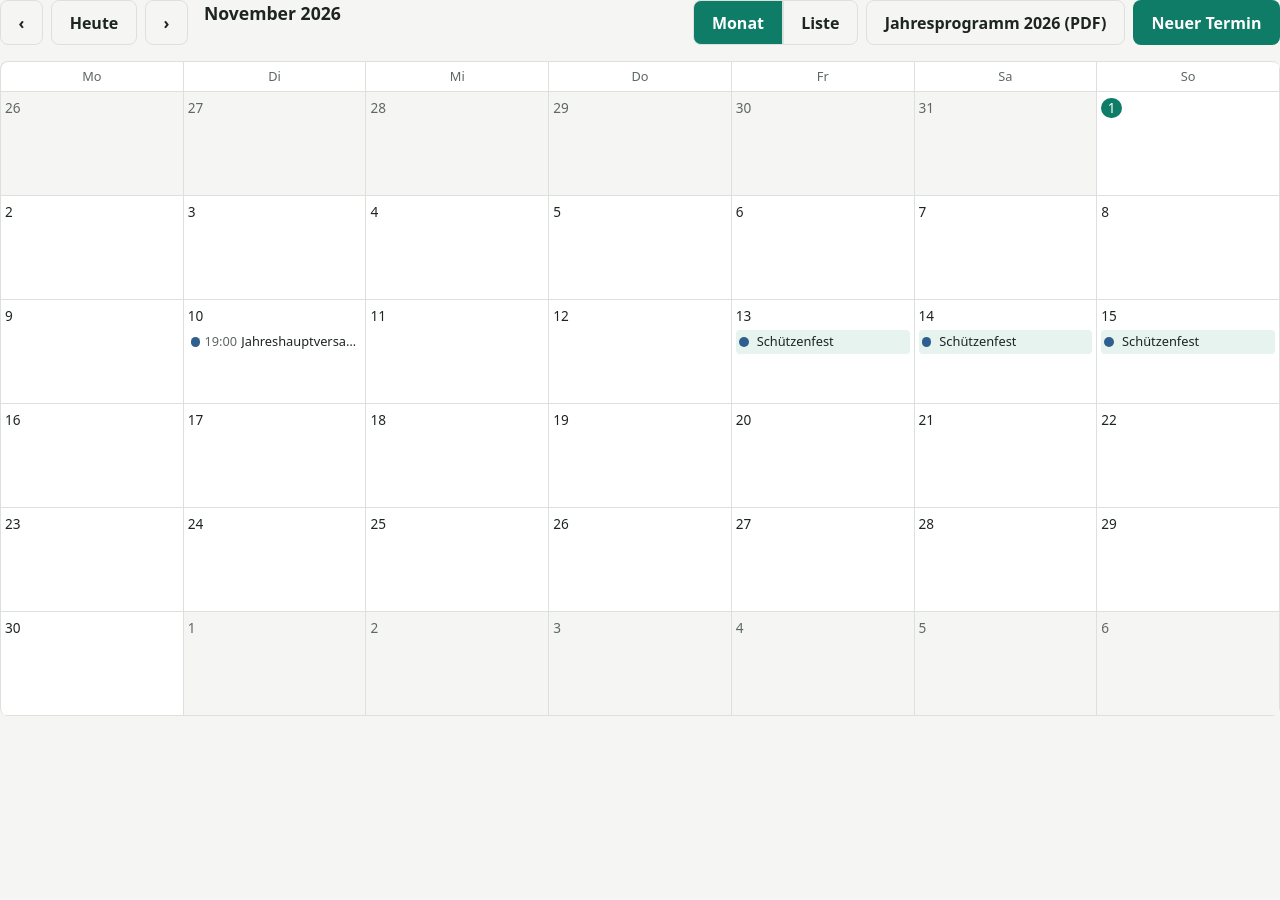
it: Kalender › zeigt Termine im Monat und öffnet die Details
Expected: the text "Schützenfest" is shown 3 times, [757, 332, 834, 352]; [939, 332, 1016, 352]; [1122, 332, 1199, 352]
Click the text "Jahreshauptversammlung" at (300, 342), box [241, 332, 358, 352]
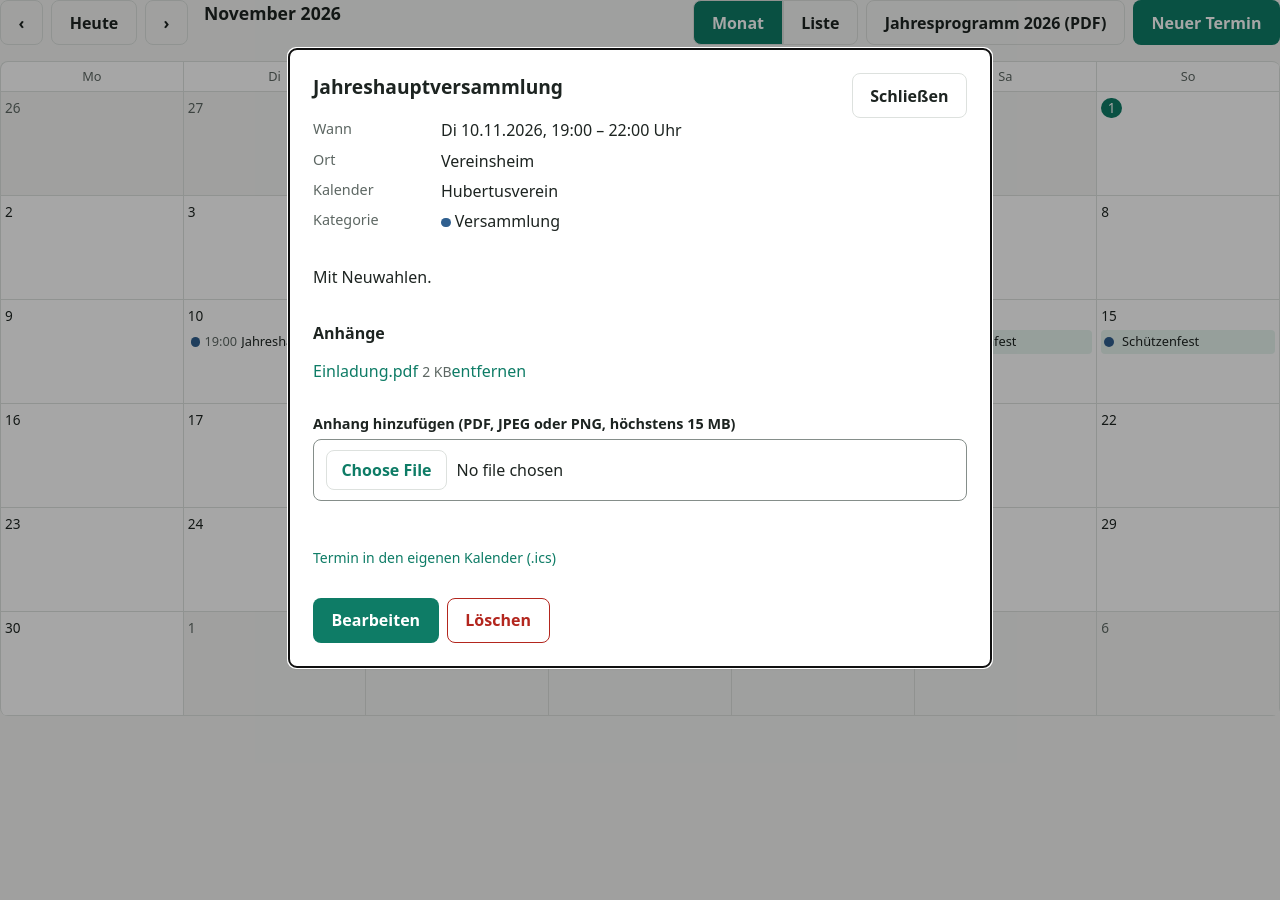
Expected: the text "Mit Neuwahlen." is shown, [313, 266, 431, 288]
Expected: the link "Einladung.pdf" is shown, [313, 360, 418, 382]
Expected: the button "Bearbeiten" is shown, [313, 598, 439, 643]
